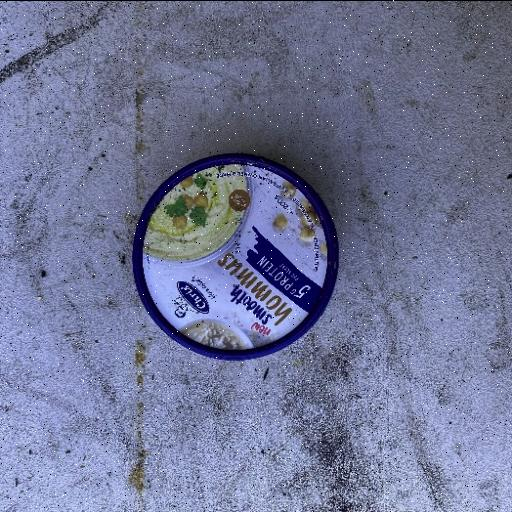Plastic: (130, 150, 340, 362)
